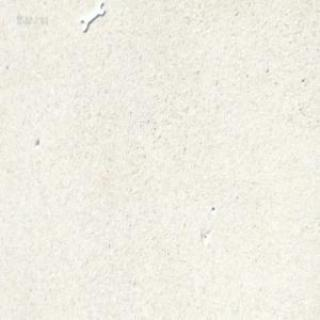Wrenchtrack_idkeyframe: (80, 6, 104, 34)
